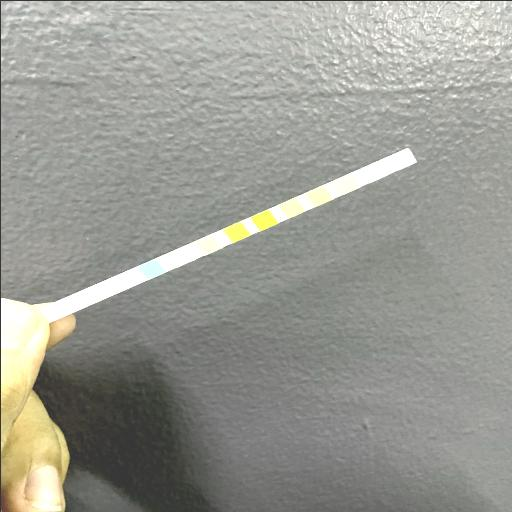Bilirubin: (172, 250, 187, 262)
Blood: (256, 213, 270, 226)
Glucose: (144, 262, 158, 274)
Ketone: (202, 237, 214, 250)
Leukocytes: (395, 152, 409, 164)
Nitrite: (366, 164, 380, 178)
Protein: (312, 189, 326, 201)
SpGravity: (229, 224, 243, 238)
Urobilinogen: (338, 177, 354, 189)
pH: (284, 201, 298, 213)
strip: (38, 147, 416, 323)
